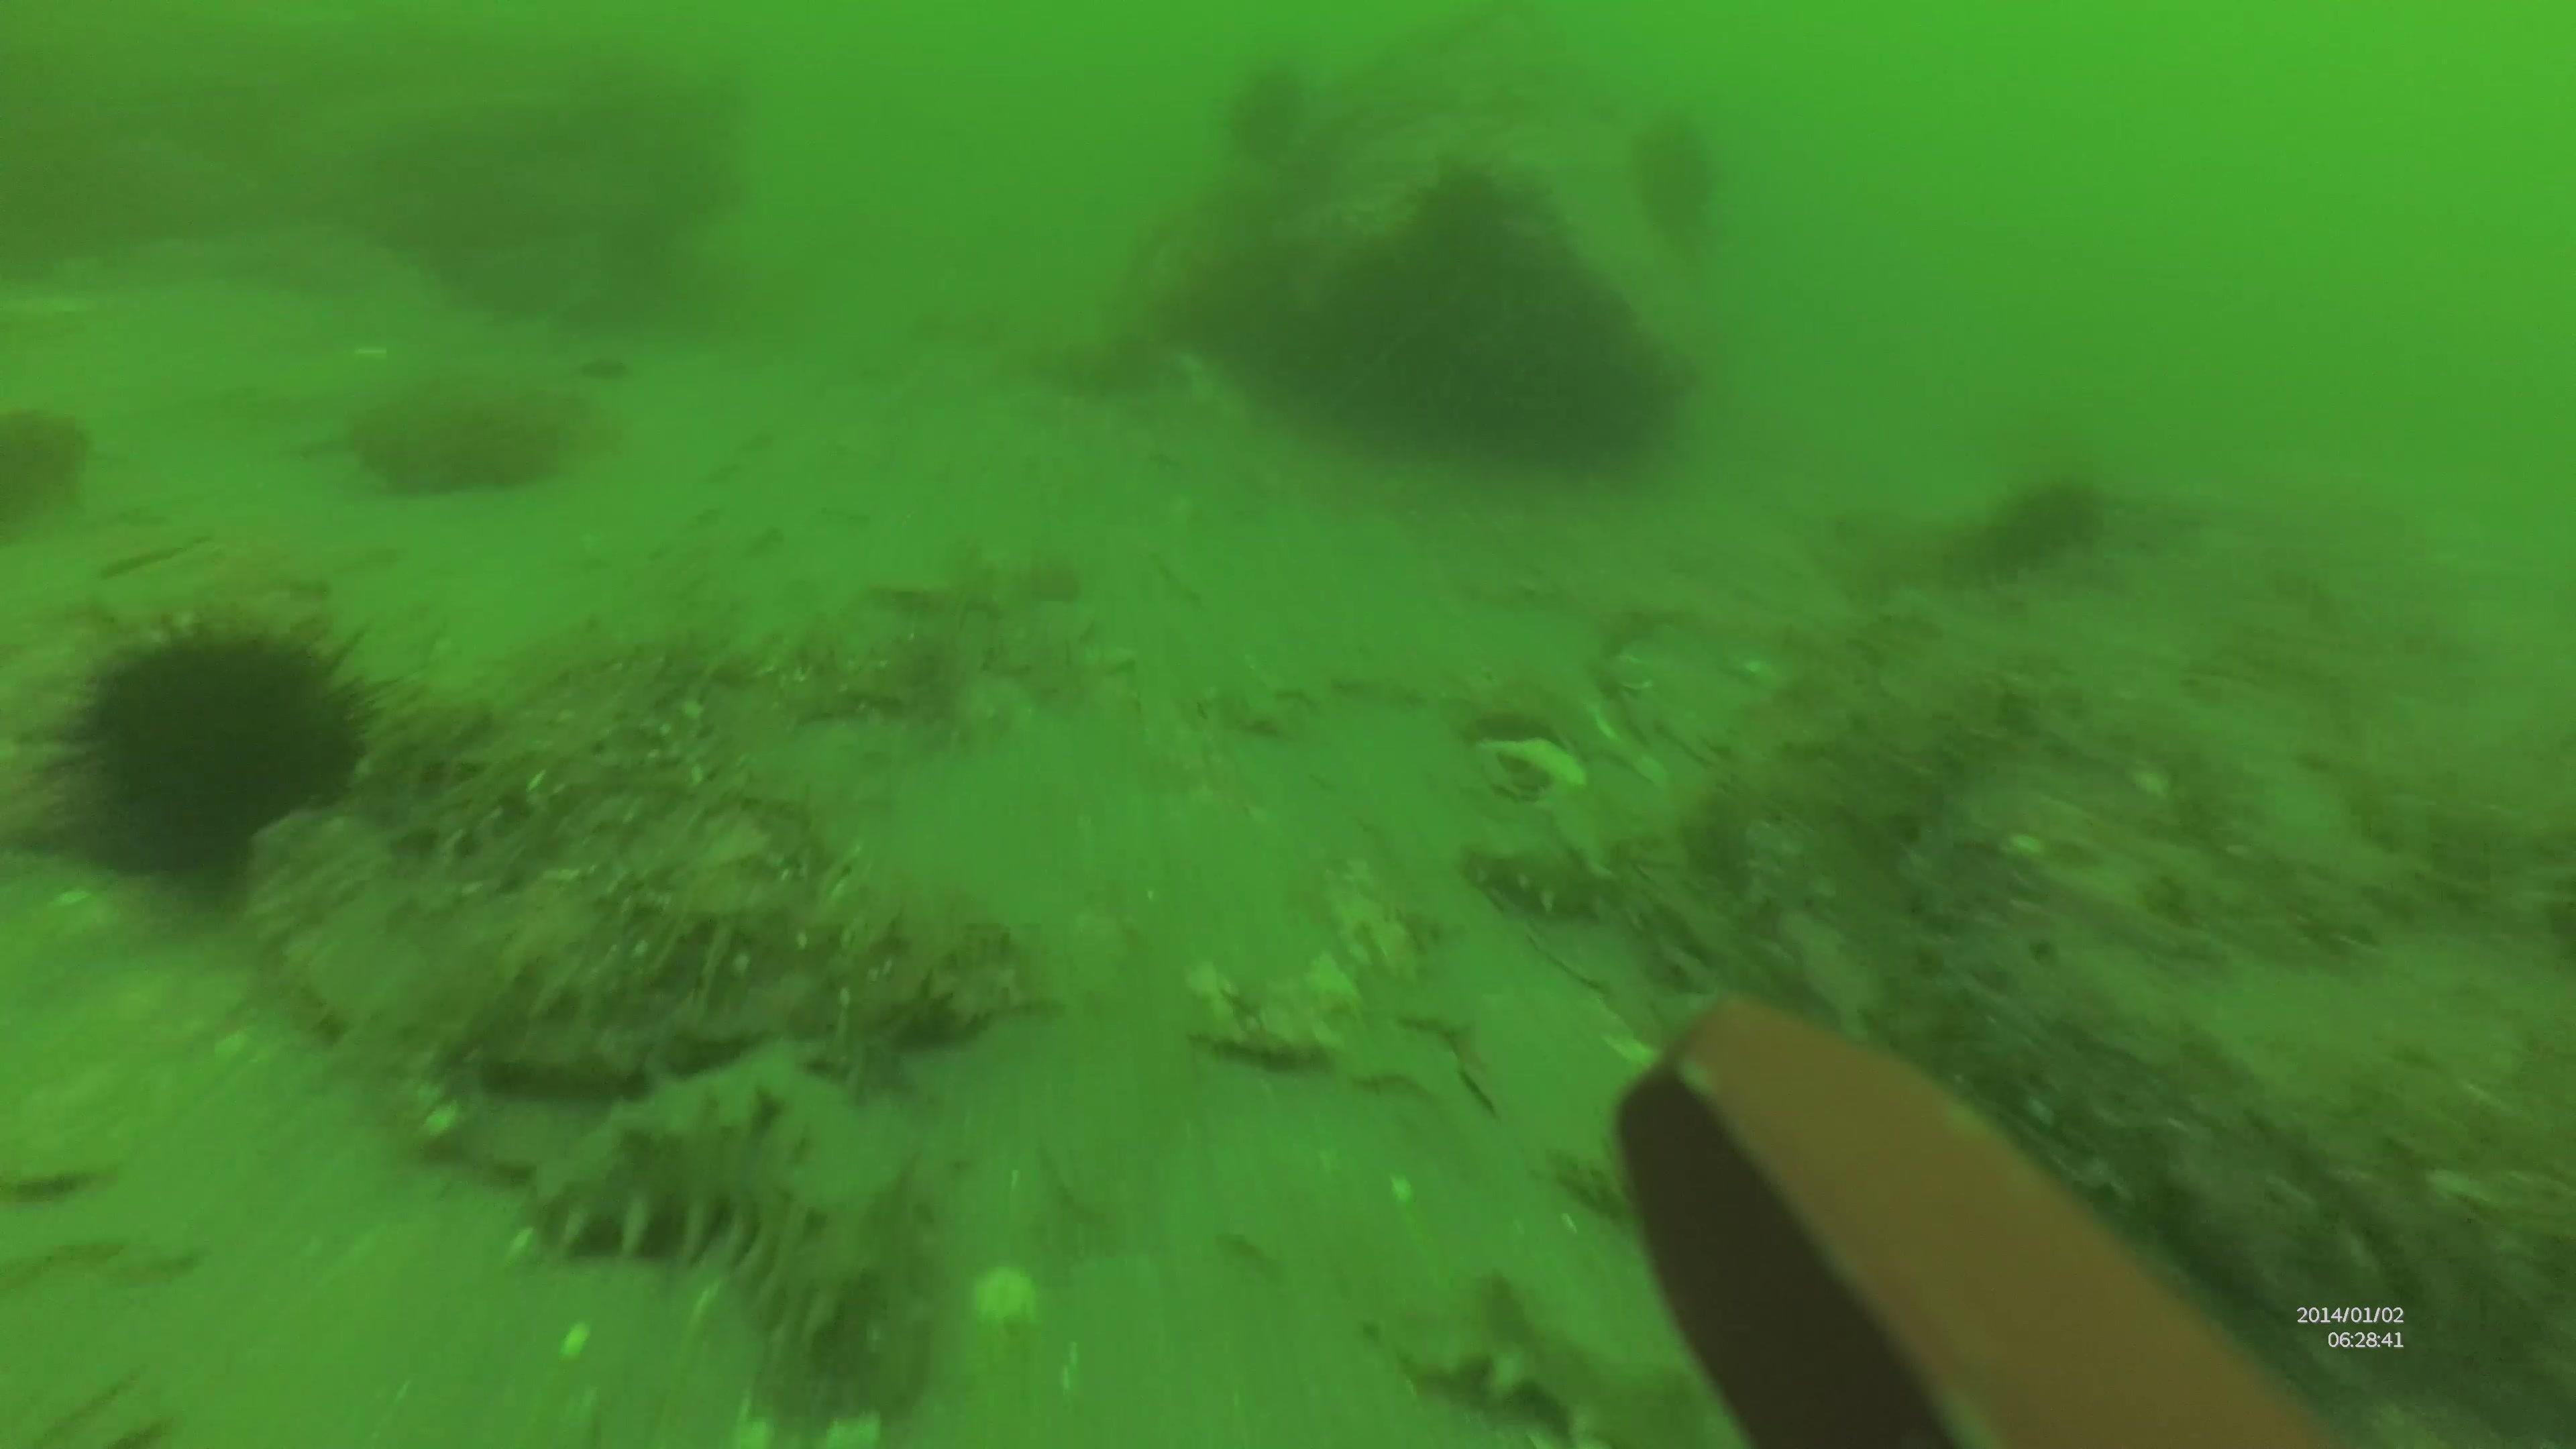echinus: (34, 598, 364, 888), (1976, 460, 2107, 570), (1629, 108, 1744, 221), (1212, 58, 1322, 161)
holothurian: (529, 1086, 936, 1440)
